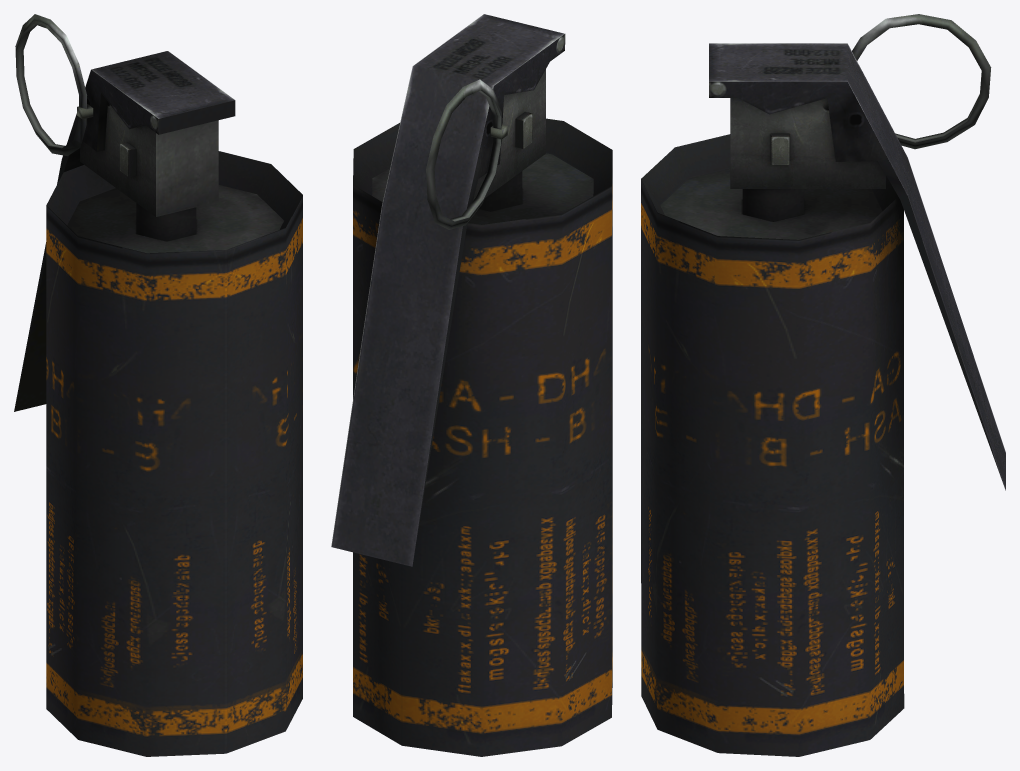
The model's file is cs-weapon-flashbang-counter-strike-source.glb.
3 renders of one model, left to right at view 1: azimuth 30°, elevation 25°; view 2: azimuth 150°, elevation 25°; view 3: azimuth 270°, elevation 25°, orthographic. The views are drawn at different scales.
Size of the model in its own units: 2.56 by 7.22 by 3.61.
1 material, 1 textured.
